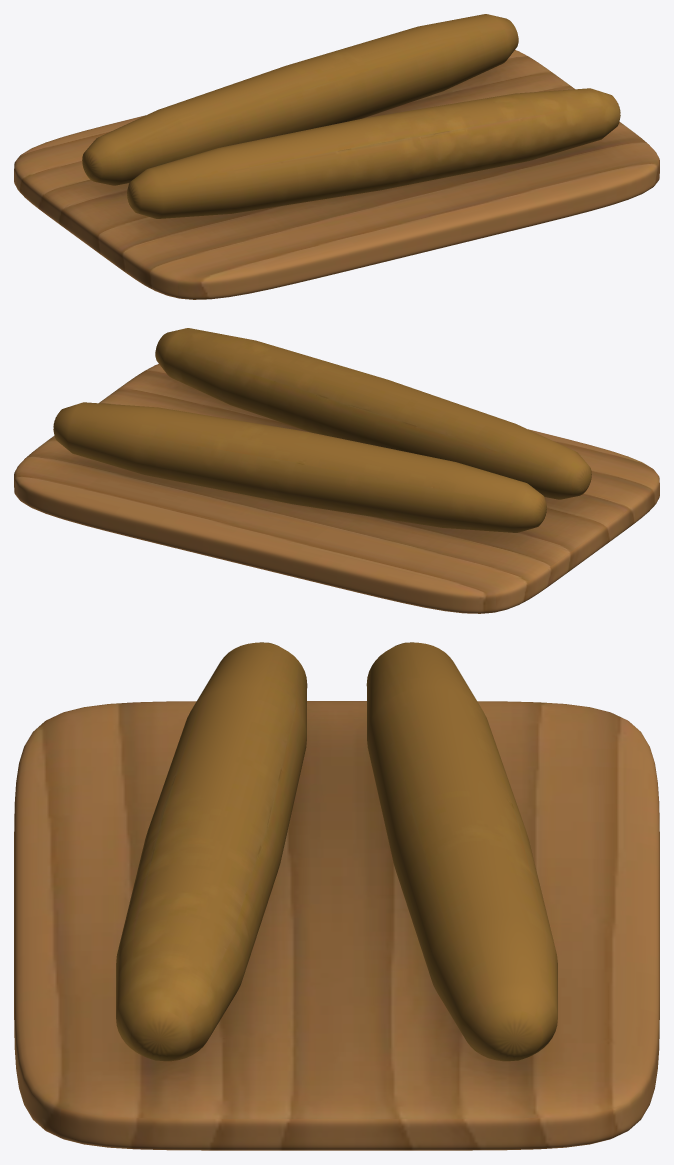
Rendered from baguettes.glb.
3 views of the same model, one above another, from view 1: azimuth 30°, elevation 25°; view 2: azimuth 150°, elevation 25°; view 3: azimuth 270°, elevation 25° (orthographic). The views are drawn at different scales.
Parts seen in each view (by area): view 1: bread_crust, wood_x; view 2: bread_crust, wood_x; view 3: wood_x, bread_crust.
Boxes of the visible parts, <box> form: bread_crust: <box>82,14,620,218</box>; wood_x: <box>14,50,659,299</box>; bread_crust: <box>53,328,591,532</box>; wood_x: <box>14,364,659,613</box>; wood_x: <box>14,701,659,1150</box>; bread_crust: <box>116,642,557,1061</box>.
Bounding box in the file's own units: 0.4 × 0.0685 × 0.26.
Materials: 2 (2 with a texture image).
